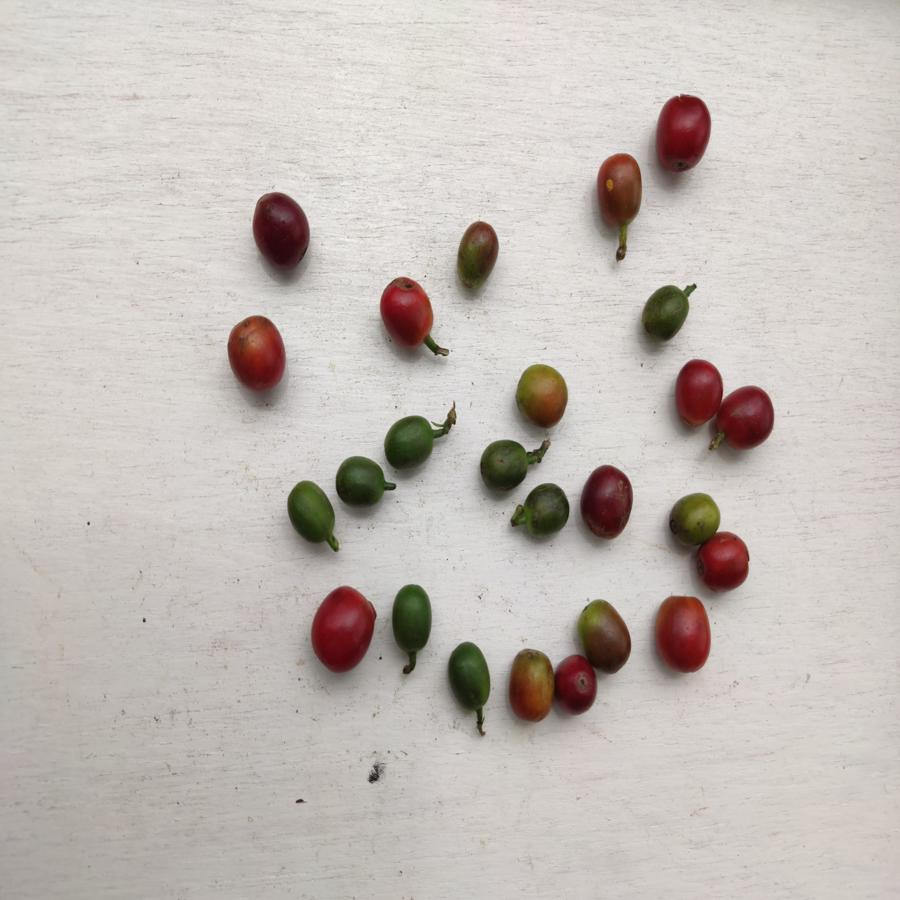Inmaduro: (286, 480, 339, 547), (446, 640, 493, 715), (389, 582, 433, 659), (641, 283, 692, 344), (382, 414, 437, 468), (517, 483, 571, 538), (333, 454, 389, 507), (479, 439, 528, 492)
Maduro: (308, 586, 377, 671), (651, 92, 712, 176), (652, 595, 714, 674), (227, 315, 288, 392), (379, 276, 436, 348), (718, 382, 776, 450), (553, 651, 600, 722), (673, 358, 722, 425), (695, 535, 751, 593)
Pinton: (512, 359, 574, 431), (592, 150, 646, 226), (581, 597, 635, 671), (506, 646, 556, 722), (453, 220, 503, 290), (668, 492, 721, 543)
Sobremaduro: (250, 190, 314, 273), (579, 463, 633, 540)
